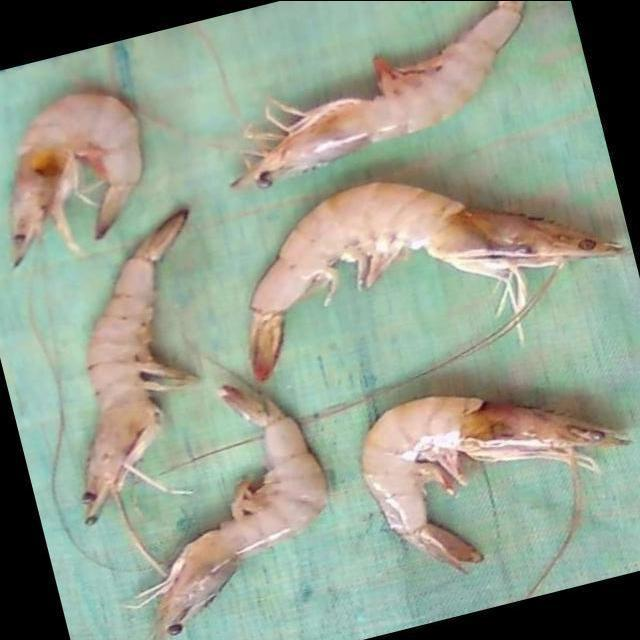shrimp: (249, 181, 623, 380), (231, 0, 524, 186), (140, 380, 325, 640), (361, 396, 627, 572), (80, 207, 197, 525), (8, 90, 139, 265)
